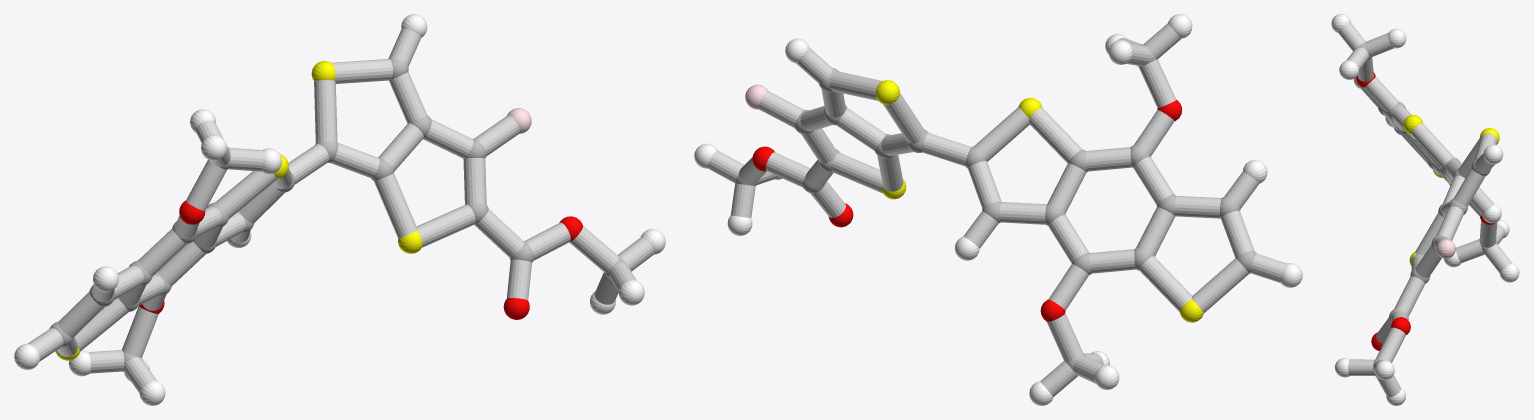
File: Dimethoxy_Benzodithiophene_Phi_10_Theta_110_Methylcarbonyl_3_Fluoro_Thienothiophene.glb
3 renders of one model, left to right at view 1: azimuth 30°, elevation 25°; view 2: azimuth 150°, elevation 25°; view 3: azimuth 270°, elevation 25°, orthographic. The views are drawn at different scales.
Parts seen in each view (by area): view 1: grp15205, grp8689, grp1, grp13395, grp7241; view 2: grp15205, grp8689, grp1, grp7241, grp13395; view 3: grp15205, grp8689, grp1, grp13395, grp7241, grp14843.
Part boxes in pixels (x1,y1,x2,y2): grp15205: (27,28,654,392); grp8689: (14,14,665,405); grp1: (49,57,626,371); grp13395: (139,200,582,319); grp7241: (55,61,422,360); grp15205: (707,23,1286,396); grp8689: (694,14,1302,405); grp1: (735,44,1256,370); grp7241: (875,80,1203,322); grp13395: (752,99,1182,321); grp15205: (1338,22,1511,396); grp8689: (1331,14,1519,405); grp1: (1357,42,1497,376); grp13395: (1356,72,1495,350); grp7241: (1403,115,1499,265); grp14843: (1436,239,1455,258).
Bounding box in the file's own units: 16.98 × 8.49 × 5.69.
